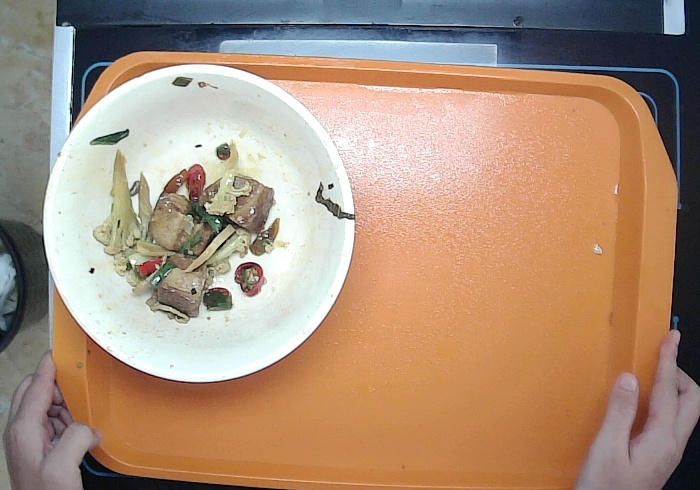ZNLD-Da_Tang_Wan: (37, 59, 362, 391)
